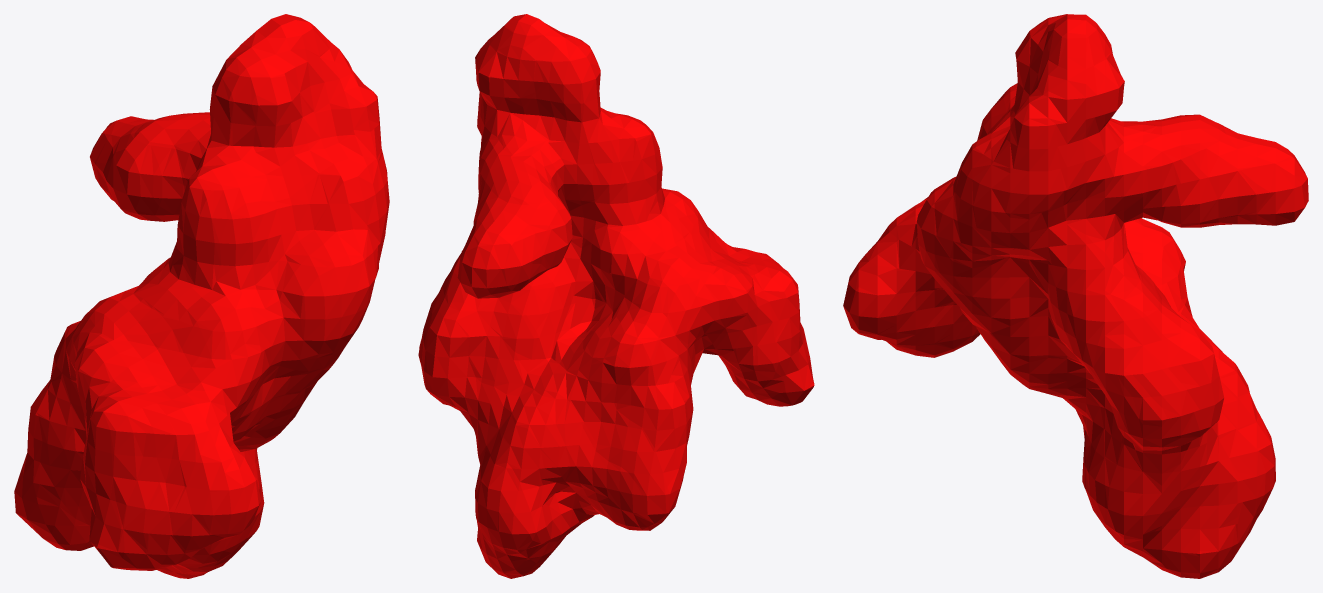
File: potB_coarse.dae
3 renders of one model, left to right at view 1: azimuth 30°, elevation 25°; view 2: azimuth 150°, elevation 25°; view 3: azimuth 270°, elevation 25°, orthographic. The views are drawn at different scales.
Parts seen in each view (by area): view 1: potB; view 2: potB; view 3: potB.
Boxes of the visible parts, x1=… form: potB: x1=14, y1=14, x2=389, y2=578; potB: x1=418, y1=14, x2=814, y2=578; potB: x1=843, y1=14, x2=1308, y2=578.
Size of the model in its own units: 53.55 by 87.86 by 63.94.
